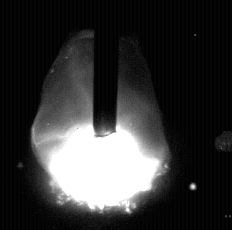arame: (94, 0, 118, 137)
poca: (31, 0, 167, 230)
